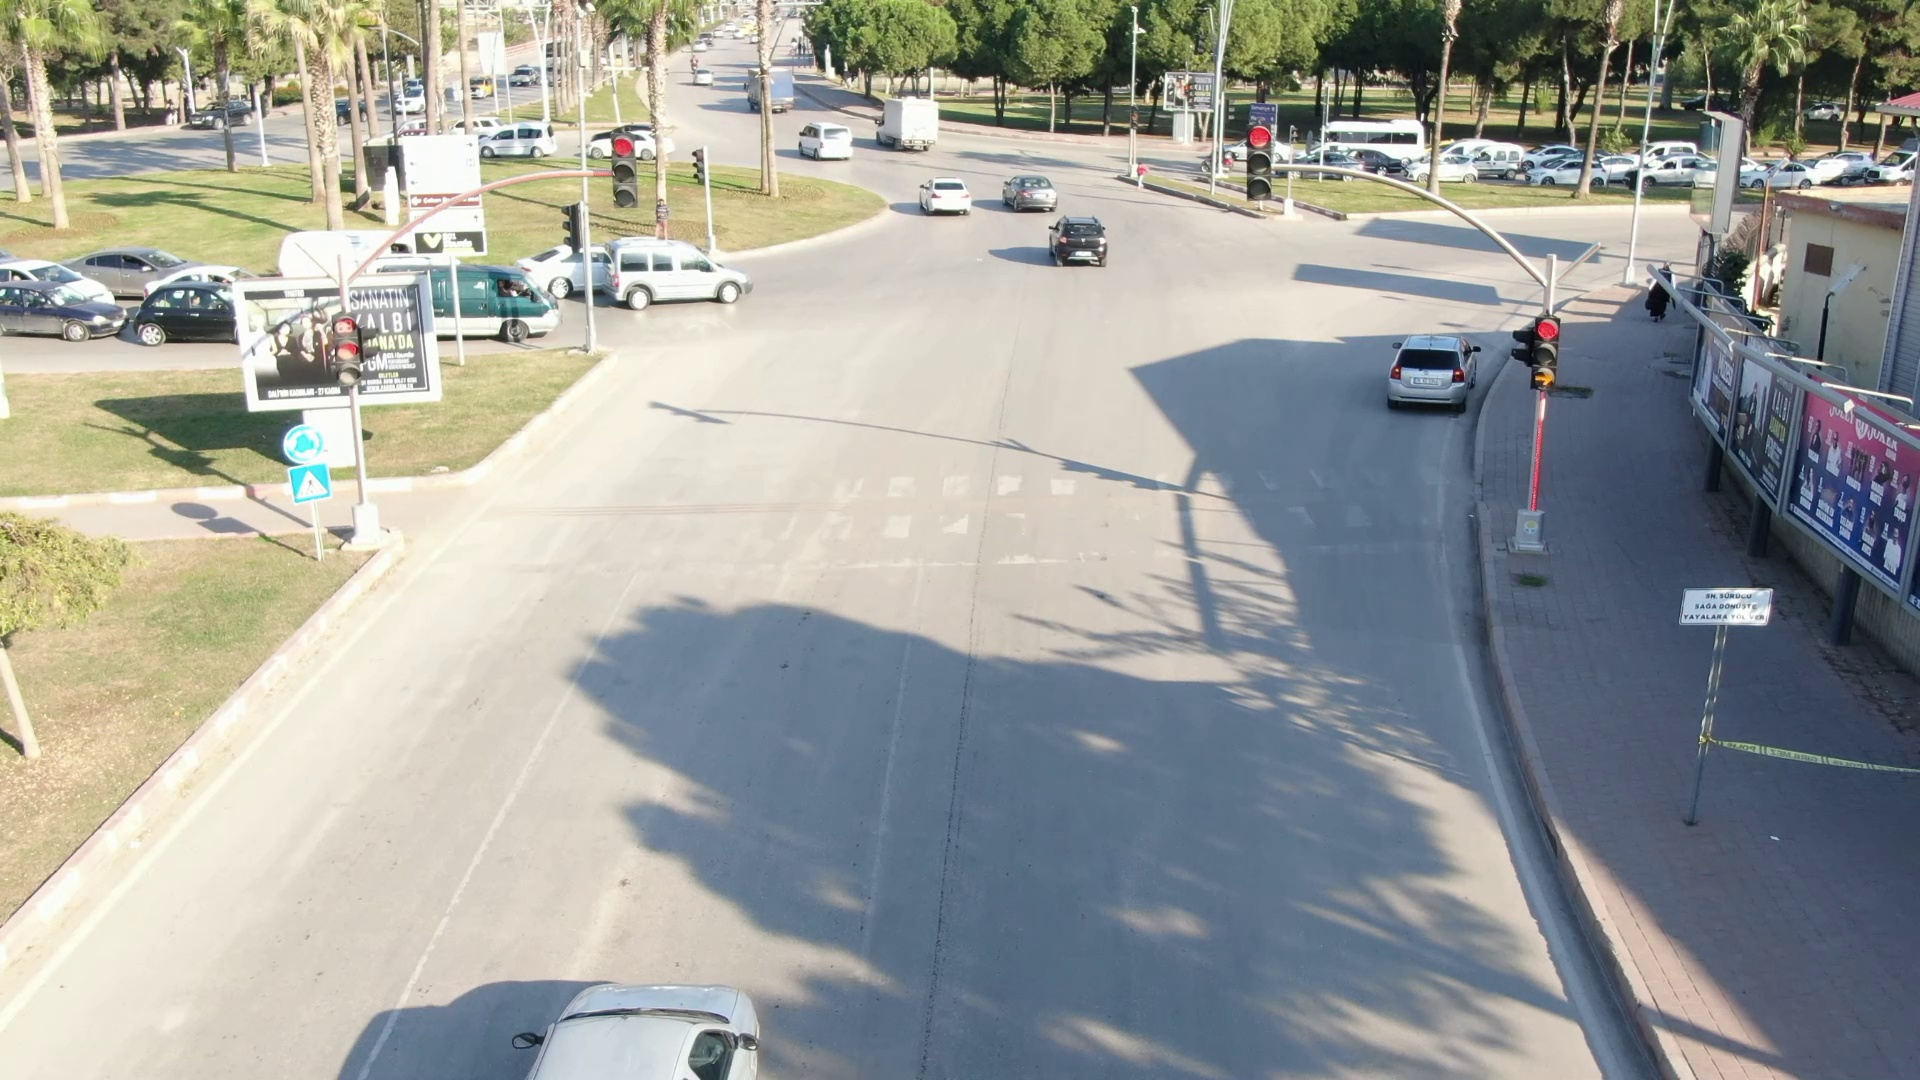car: (596, 228, 767, 326), (1364, 315, 1472, 426), (1, 256, 119, 352), (1039, 200, 1137, 287), (857, 88, 945, 152), (905, 169, 984, 229), (990, 161, 1063, 218), (789, 105, 855, 164)
